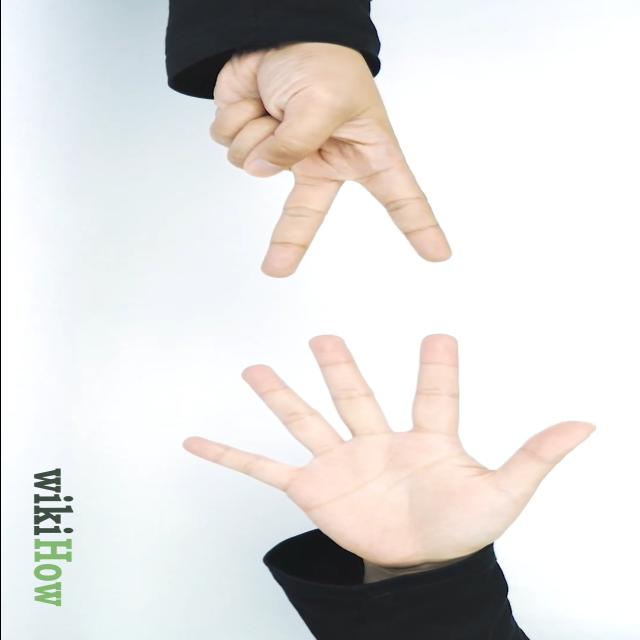Paper: (178, 333, 594, 570)
Scissors: (205, 46, 454, 278)
